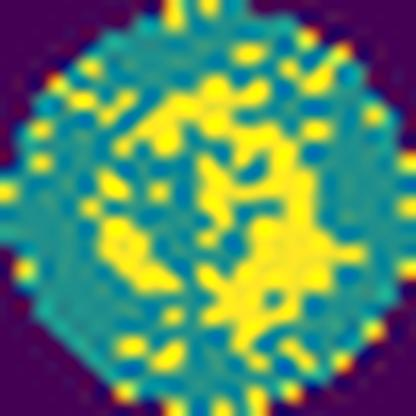Donut: (76, 58, 379, 360)
